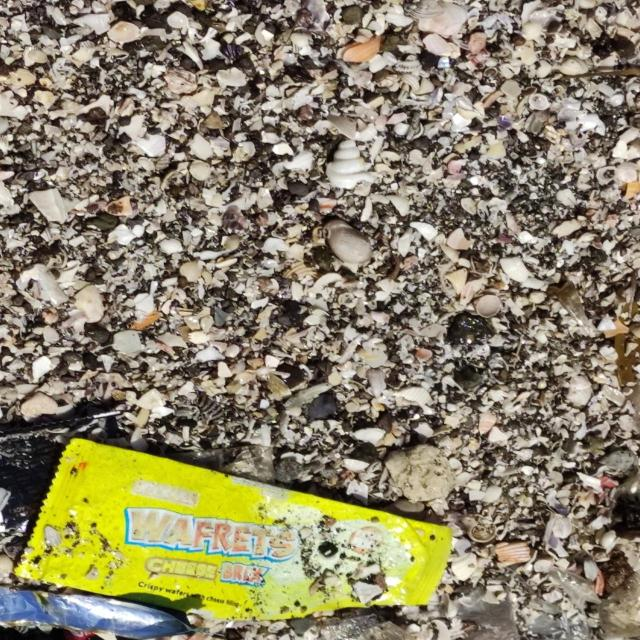plastic_waste: (6, 439, 454, 639)
